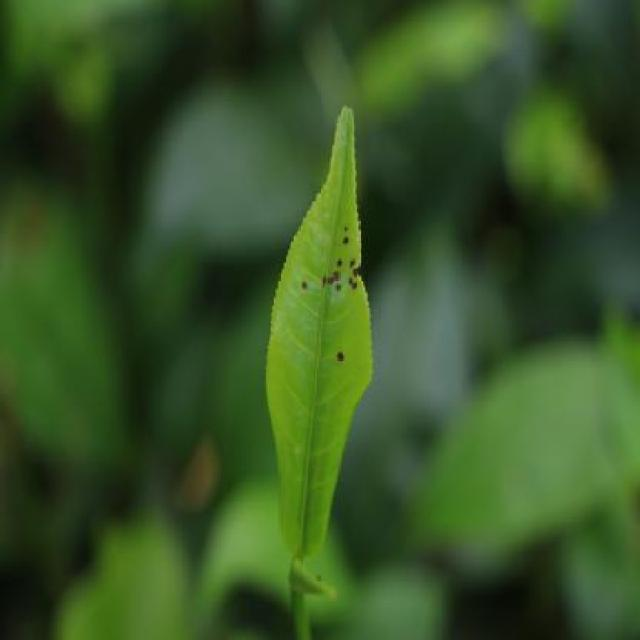Tea Mosquito bug infested leaf: (265, 138, 369, 564)
